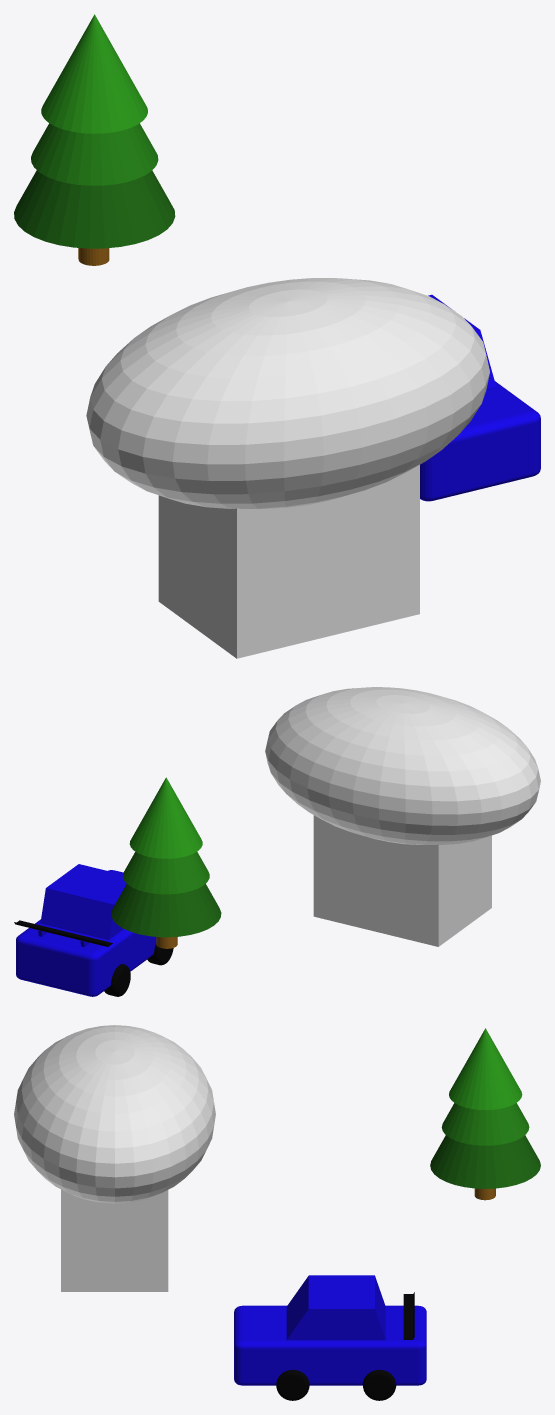
File: tree.fbx
3 renders of one model, top to bottom at view 1: azimuth 30°, elevation 25°; view 2: azimuth 150°, elevation 25°; view 3: azimuth 270°, elevation 25°, orthographic. The views are drawn at different scales.
Visible parts, largest first — view 1: 球, 立方体.004, 円錐.002, 立方体, 円錐, 円錐.001; view 2: 球, 立方体.004, 立方体, 円錐.002, 円錐, 円錐.001, 円柱.002, 立方体.003; view 3: 球, 立方体, 立方体.004, 円錐.002, 円錐, 円錐.001, 円柱.001, 円柱.003, 立方体.003.
Part boxes in pixels (<box>): 球: <box>86,278,489,509</box>; 立方体.004: <box>158,465,419,658</box>; 円錐.002: <box>14,170,175,248</box>; 立方体: <box>420,294,540,501</box>; 円錐: <box>41,14,147,133</box>; 円錐.001: <box>31,123,158,185</box>; 球: <box>265,687,540,844</box>; 立方体.004: <box>313,815,491,946</box>; 立方体: <box>16,864,156,996</box>; 円錐.002: <box>111,883,221,937</box>; 円錐: <box>129,777,202,858</box>; 円錐.001: <box>122,852,209,894</box>; 円柱.002: <box>104,964,130,996</box>; 立方体.003: <box>14,920,112,946</box>; 球: <box>14,1025,215,1203</box>; 立方体: <box>234,1275,426,1385</box>; 立方体.004: <box>61,1189,168,1291</box>; 円錐.002: <box>430,1135,540,1188</box>; 円錐: <box>449,1028,522,1109</box>; 円錐.001: <box>441,1103,529,1145</box>; 円柱.001: <box>276,1369,309,1400</box>; 円柱.003: <box>362,1369,396,1400</box>; 立方体.003: <box>403,1292,414,1339</box>.
Size of the model in its own units: 1152 by 841 by 1422.
